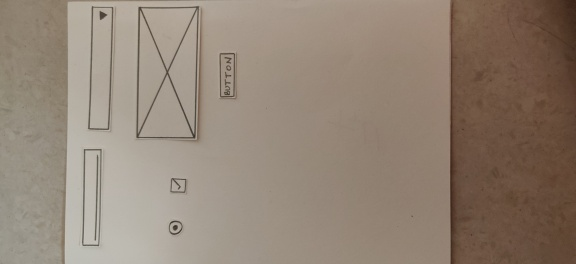button: (216, 50, 239, 101)
checkbox: (166, 174, 190, 197)
dropdown: (86, 3, 117, 134)
img: (131, 3, 202, 144)
radio: (165, 219, 186, 237)
text: (78, 145, 104, 249)
